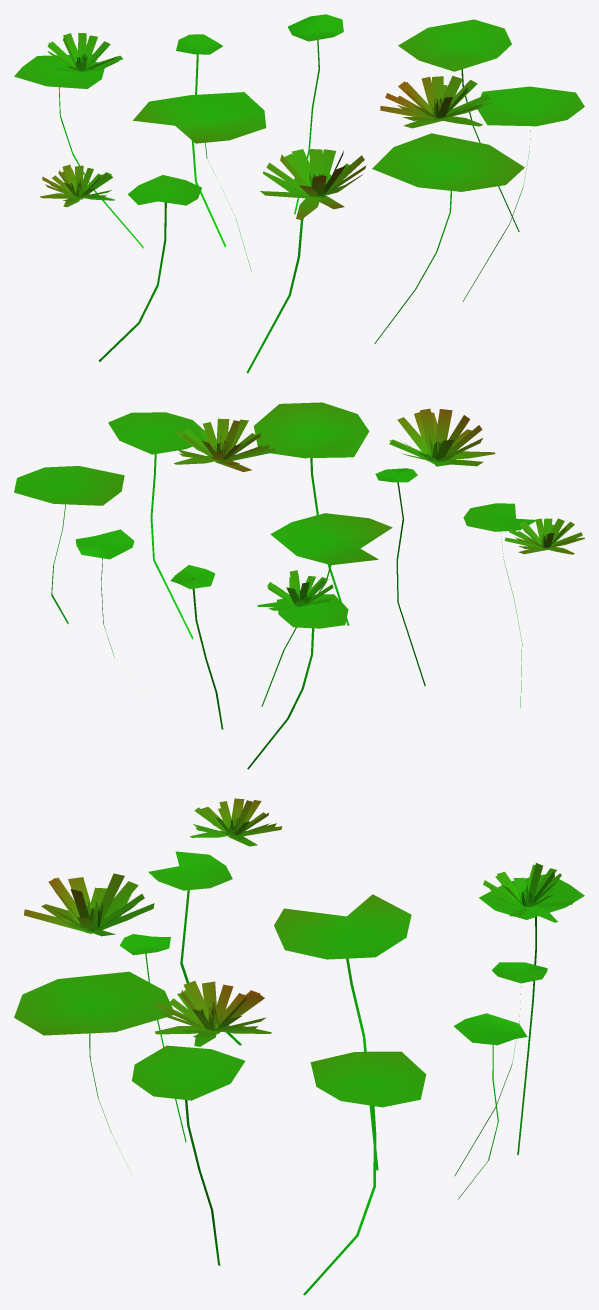
File: Carolana Water Lily_LOD3_Var7_uc2jdibia.fbx
3 renders of one model, top to bottom at view 1: azimuth 30°, elevation 25°; view 2: azimuth 150°, elevation 25°; view 3: azimuth 270°, elevation 25°, orthographic. The views are drawn at different scales.
Visible parts, largest first — view 1: _73b5_Var7_LOD3; view 2: _73b5_Var7_LOD3; view 3: _73b5_Var7_LOD3.
Boxes of the visible parts, x1,y1,x2,y2 form: _73b5_Var7_LOD3: (14,14,584,373); _73b5_Var7_LOD3: (14,402,584,769); _73b5_Var7_LOD3: (14,798,584,1295).
Bounding box in the file's own units: 131 × 58.28 × 108.
